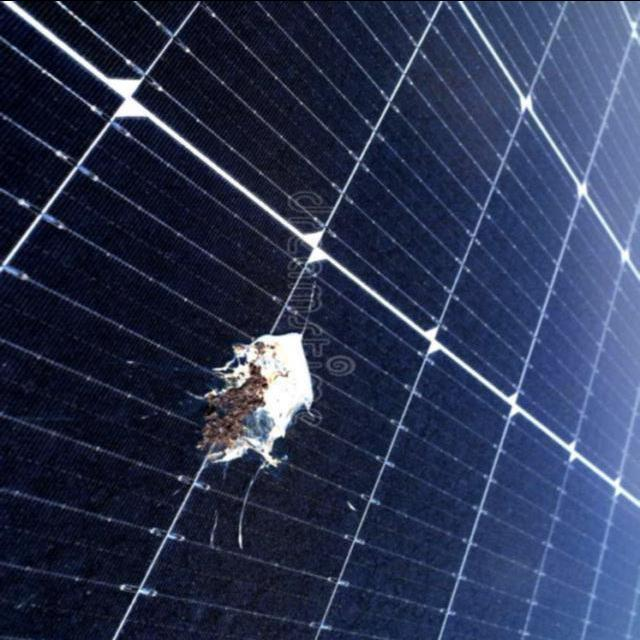soiled: (130, 327, 339, 556)
